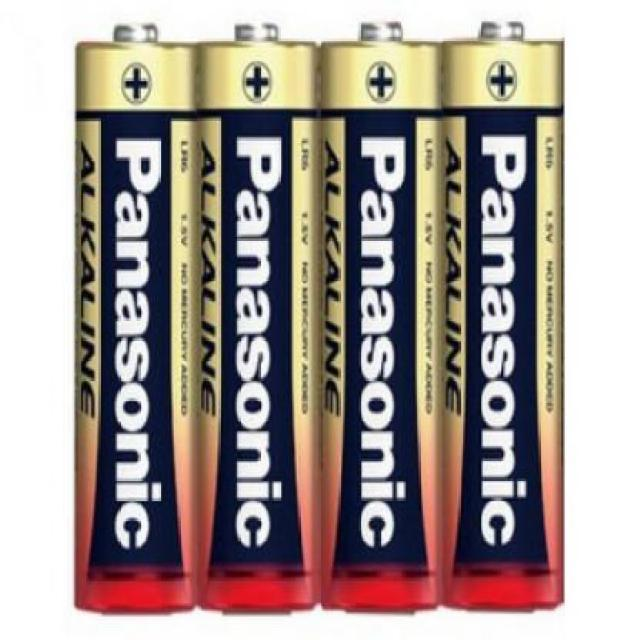AAA: (437, 19, 568, 618), (68, 20, 198, 622), (194, 21, 323, 612), (318, 19, 446, 612)
